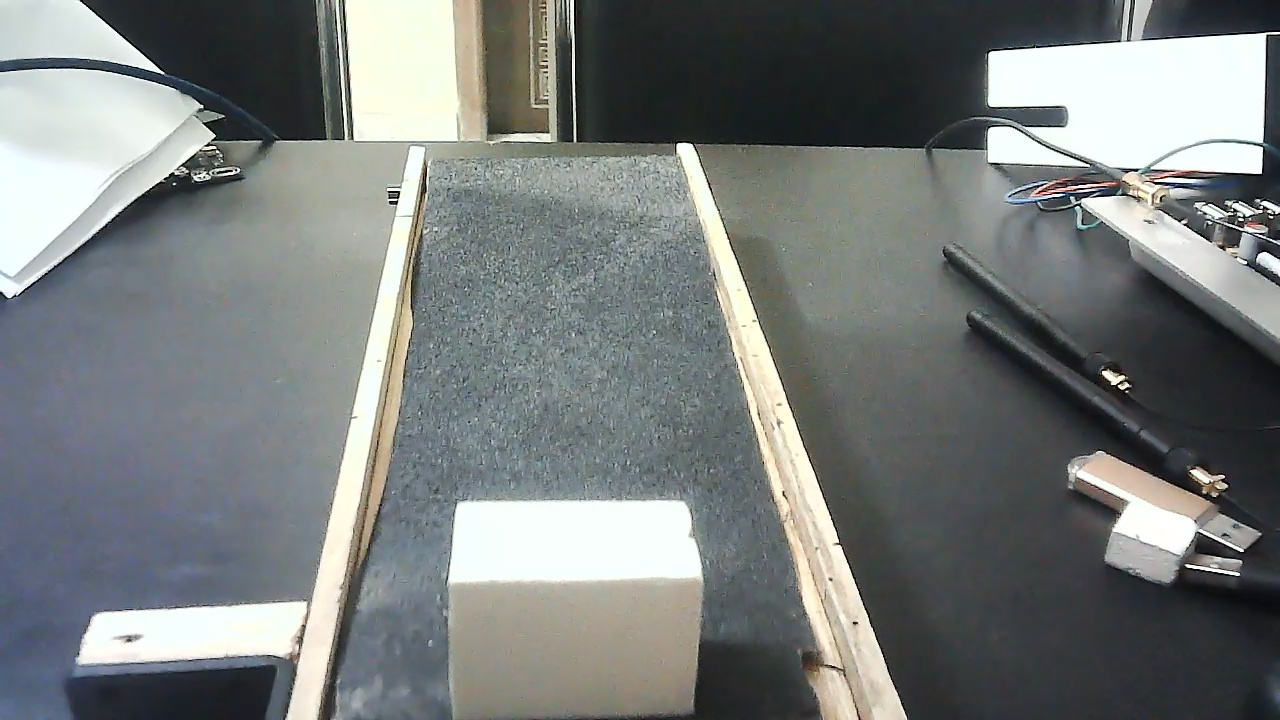BIG: (443, 458, 704, 720)
